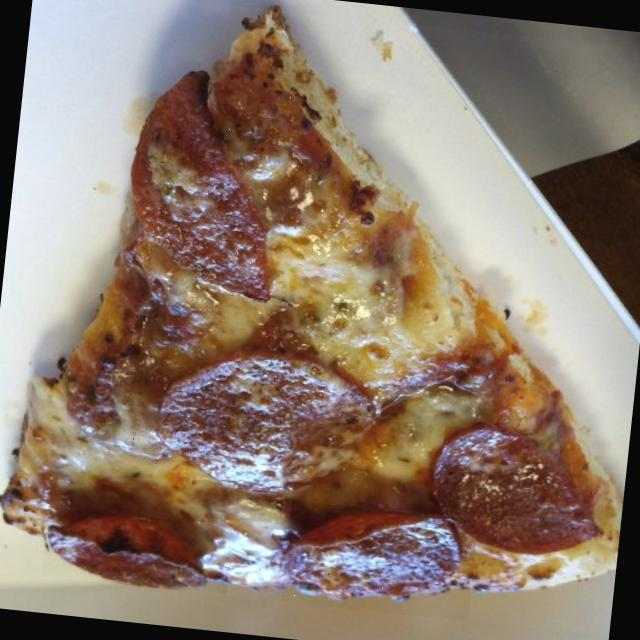pepperoni: (114, 64, 308, 304), (157, 327, 386, 500), (432, 425, 610, 566), (280, 500, 478, 620), (41, 506, 233, 594), (64, 348, 182, 456)
pizza: (0, 9, 623, 599)
